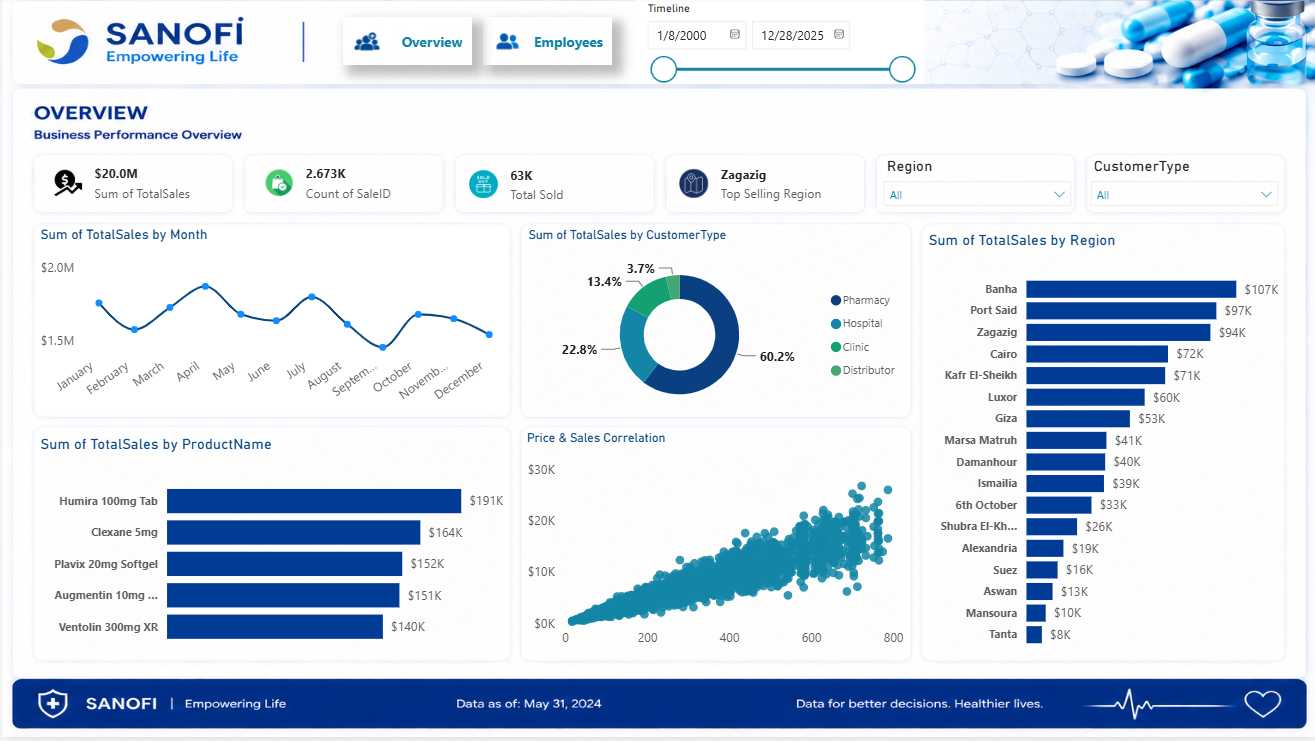

Layout of this report page (visuals, bound fields, positions):
{"tool":"powerbi","page":{"name":"Overview","canvas":[1280,720],"ordinal":0},"visuals":[{"type":"cardVisual","fields":{"Data":["Sum(Sales.TotalSales)"]},"box":[16.5,140.6,219.4,82.9],"z":0},{"type":"lineChart","fields":{"Category":["Sales.SaleDate.Variation.Date Hierarchy.Month"],"Y":["Sum(Sales.TotalSales)"]},"box":[32.5,223.8,460,181.2],"z":1000},{"type":"cardVisual","fields":{"Data":["Count(Sales.SaleID)"]},"box":[221.5,140.8,219.4,82.9],"z":2000},{"type":"barChart","fields":{"Category":["Products.ProductName"],"Y":["Sum(Sales.TotalSales)"]},"box":[32.3,421.5,460,221.5],"z":3000},{"type":"cardVisual","fields":{"Data":["Employees.Top Selling Region"]},"box":[624.6,140.8,223.1,83.1],"z":4000},{"type":"donutChart","fields":{"Y":["Sum(Sales.TotalSales)"],"Category":["Sales.CustomerType"]},"box":[506.2,223.8,375.6,185.6],"z":5000},{"type":"scatterChart","title":"Price & Sales Correlation","fields":{"Y":["Sales.TotalSales"],"X":["Sales.UnitPrice"]},"box":[506,422,376,221],"z":6000},{"type":"barChart","fields":{"Category":["Sales.Region"],"Y":["Sum(Sales.TotalSales)"]},"box":[895.7,222.9,350,420],"z":7000},{"type":"slicer","fields":{"Values":["Sales.Region"]},"box":[847.3,150.9,201.8,64.5],"z":8000},{"type":"slicer","fields":{"Values":["Sales.CustomerType"]},"box":[1048.8,151.2,201.8,64.5],"z":9000},{"type":"cardVisual","fields":{"Data":["Employees.Total Sold"]},"box":[420,141.4,219.4,82.9],"z":10000},{"type":"actionButton","box":[467.8,20,125.6,46.7],"z":11000},{"type":"actionButton","box":[331.2,20,125.6,46.7],"z":12000},{"type":"slicer","fields":{"Values":["Sales.SaleDate"]},"box":[614.3,0,281.4,85.7],"z":13000}]}

Visuals, with their boxes in screenshot pixels (x1, y1, x2, y2), scaled from the page's 1280x720 canvas onto the 1315x741 screenshot:
cardVisual - Sum(Sales.TotalSales): 17:145:242:230
lineChart - Sales.SaleDate.Variation.Date Hierarchy.Month x Sum(Sales.TotalSales): 33:230:506:417
cardVisual - Count(Sales.SaleID): 228:145:453:230
barChart - Products.ProductName x Sum(Sales.TotalSales): 33:434:506:662
cardVisual - Employees.Top Selling Region: 642:145:871:230
donutChart - Sum(Sales.TotalSales) x Sales.CustomerType: 520:230:906:421
"Price & Sales Correlation" scatterChart: 520:434:906:662
barChart - Sales.Region x Sum(Sales.TotalSales): 920:229:1280:662
slicer - Sales.Region: 870:155:1078:222
slicer - Sales.CustomerType: 1077:156:1285:222
cardVisual - Employees.Total Sold: 431:146:657:231
actionButton: 481:21:610:69
actionButton: 340:21:469:69
slicer - Sales.SaleDate: 631:0:920:88
